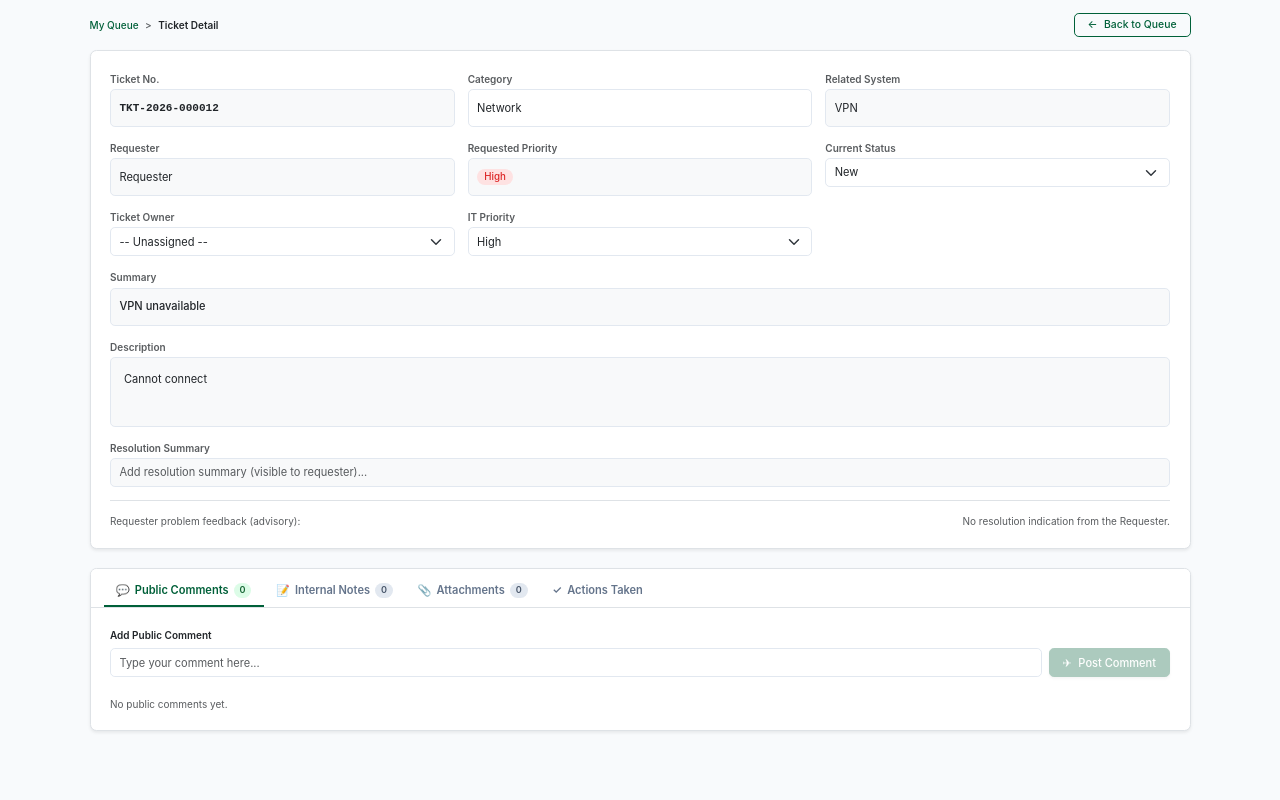
Test case: Lab 4 Ticket workflow UI › submits a selected permitted status with its version and refreshes the Ticket summary
The width and height of the screenshot is (1280, 800).
Select "In Progress" in the dropdown with test id "status-select" at {"x": 998, "y": 173}, box left=825, top=158, right=1170, bottom=187
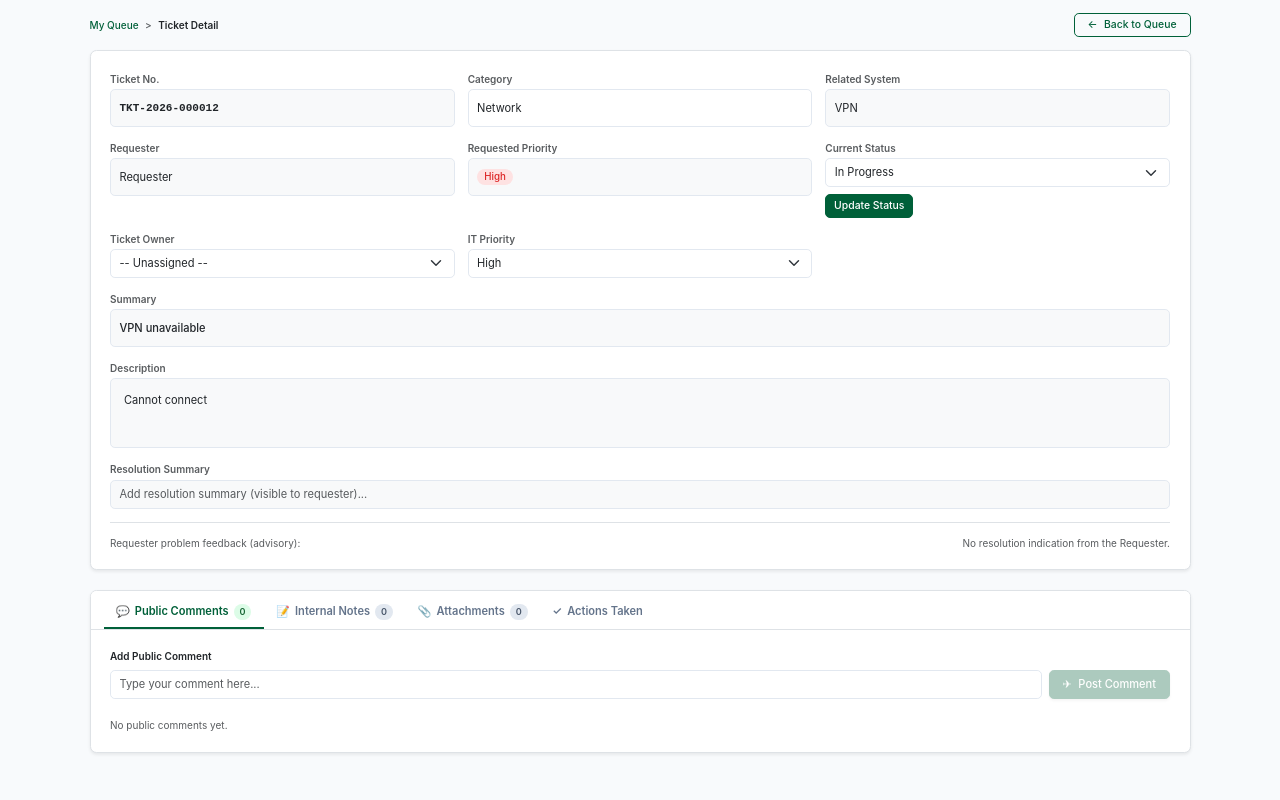
Click the button with test id "update-status-btn".
click(869, 206)  # box left=825, top=194, right=913, bottom=218
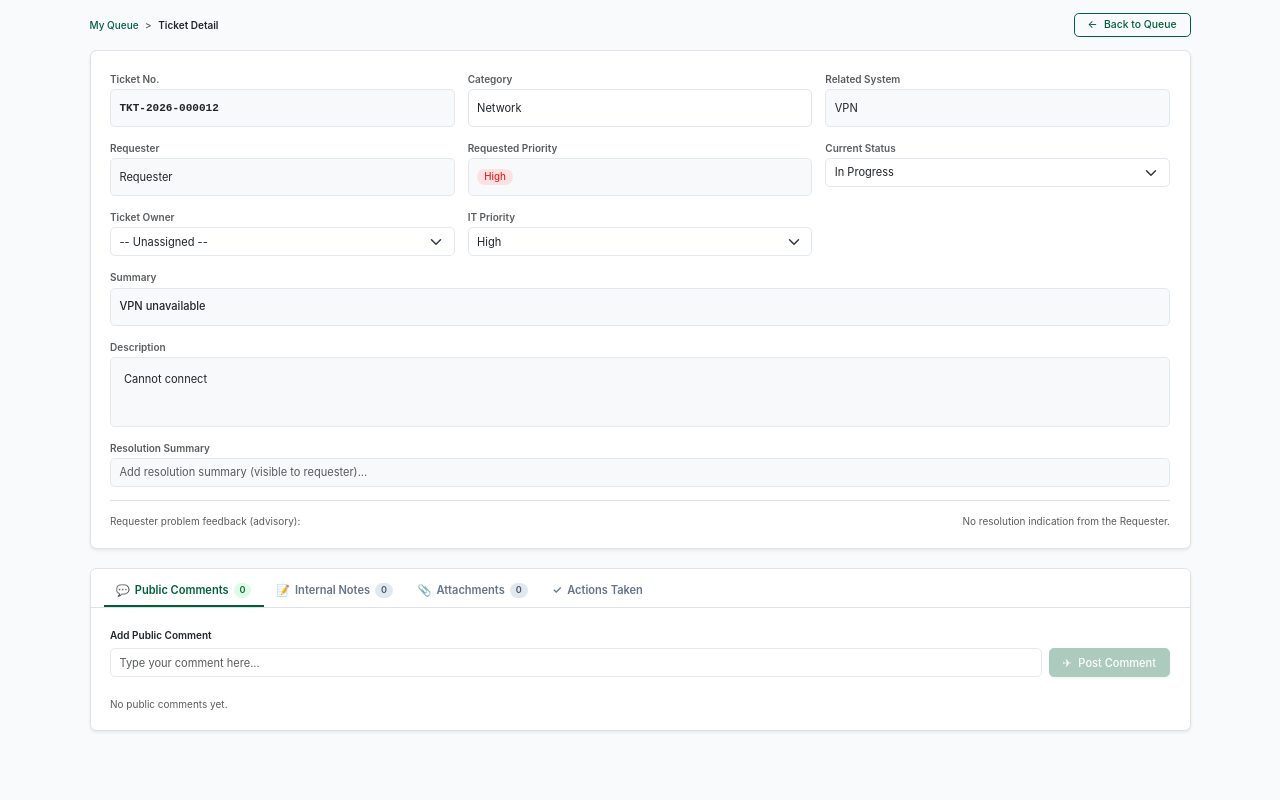
Expected: the button with test id "update-status-btn" is gone
